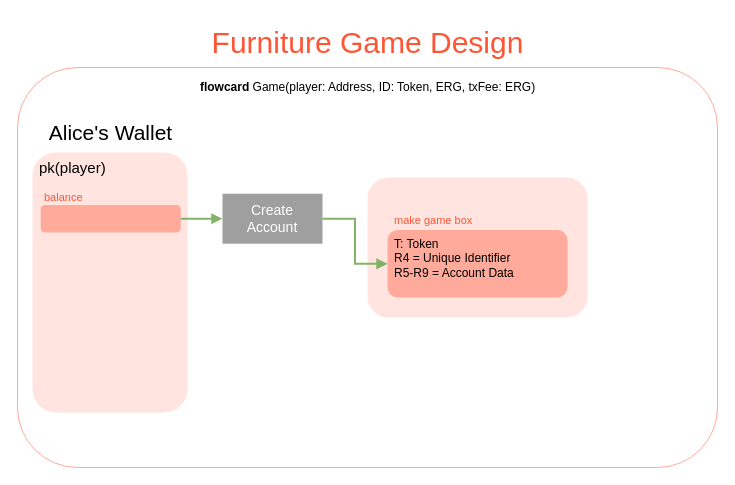
This 735x485 diagram has some shape labels left out. Here are the shapes that lost their labels. From the top down, the box of each, then its label:
(40, 204, 180, 232): ERG
(367, 177, 587, 317): createBox
